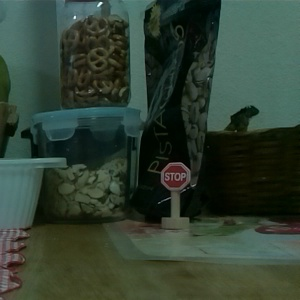stop sign: (158, 160, 193, 230)
